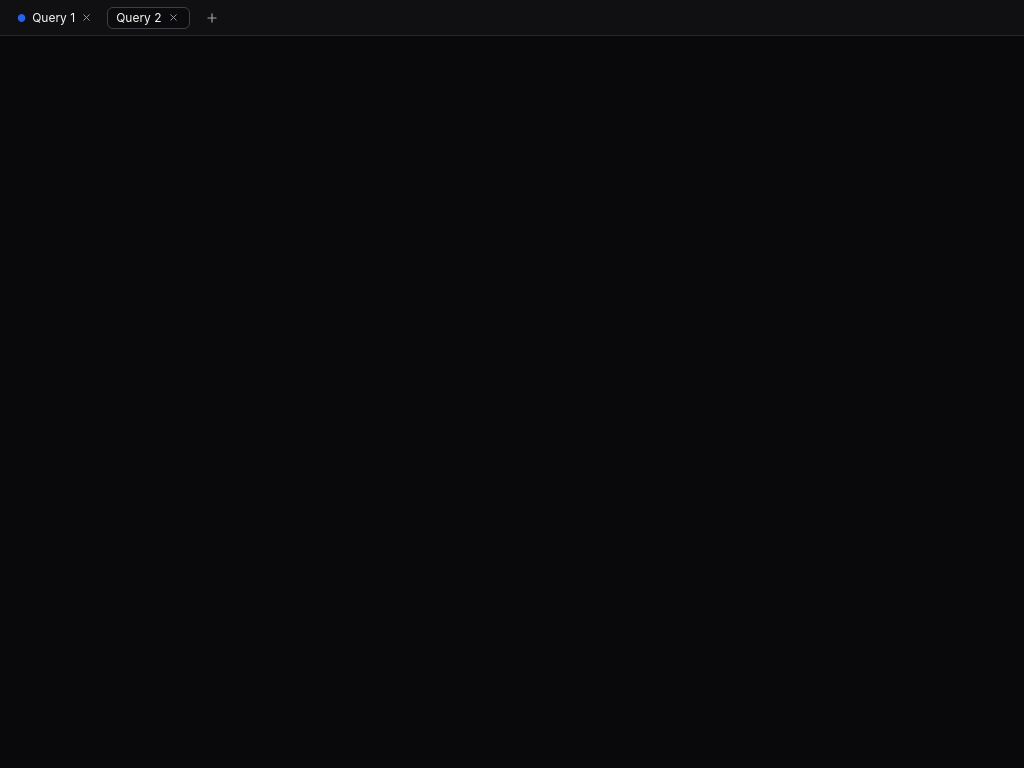
it: TabsBar › confirms before closing a dirty tab
Click the button named "Close Query 1" at (87, 18), box [79,10,94,25]
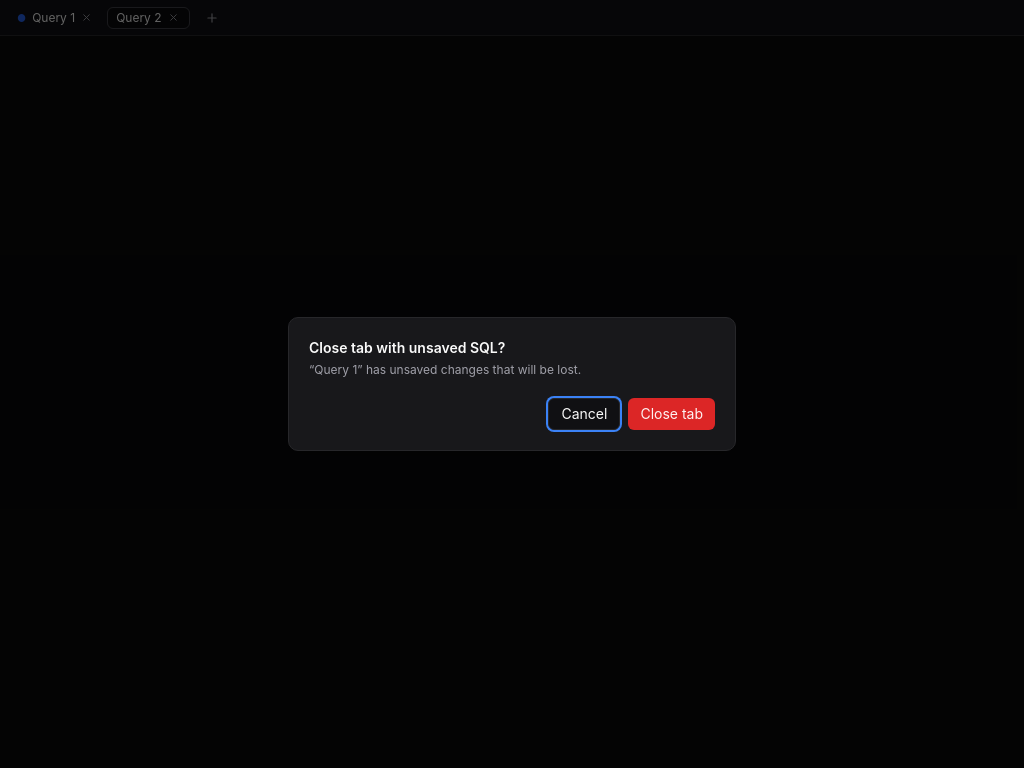
Check: the dialog is shown, box [288,317,736,451]
Click the button "Close tab" at (672, 414), box [628,398,715,430]
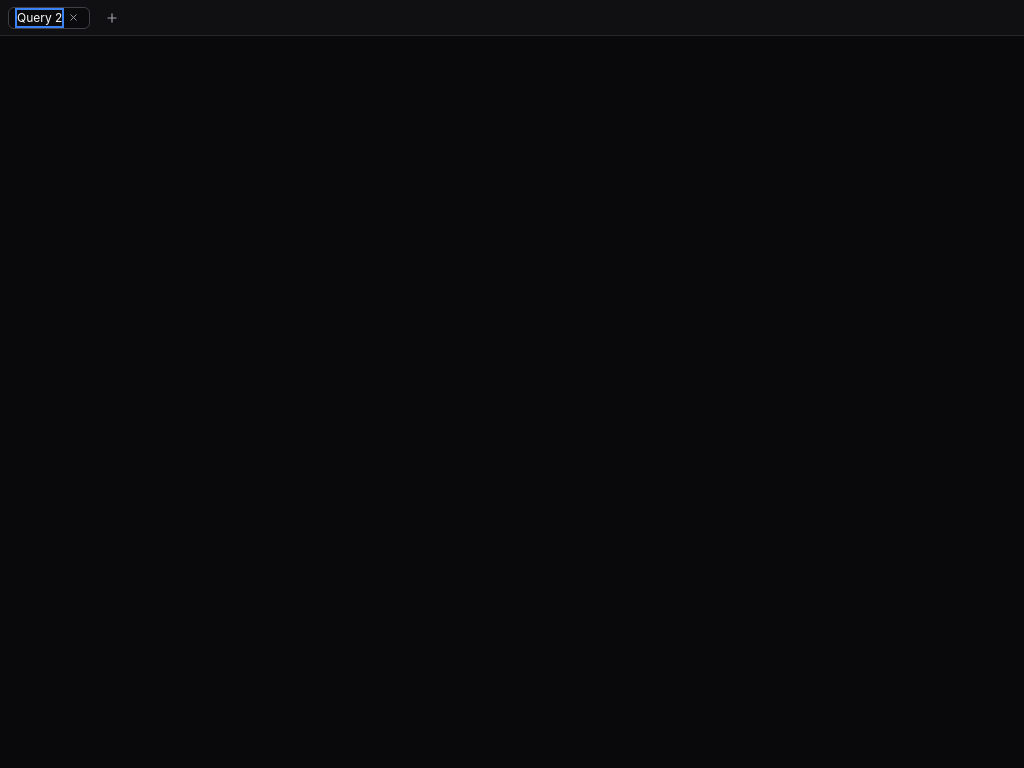
Check: the button "Query 1" is gone
